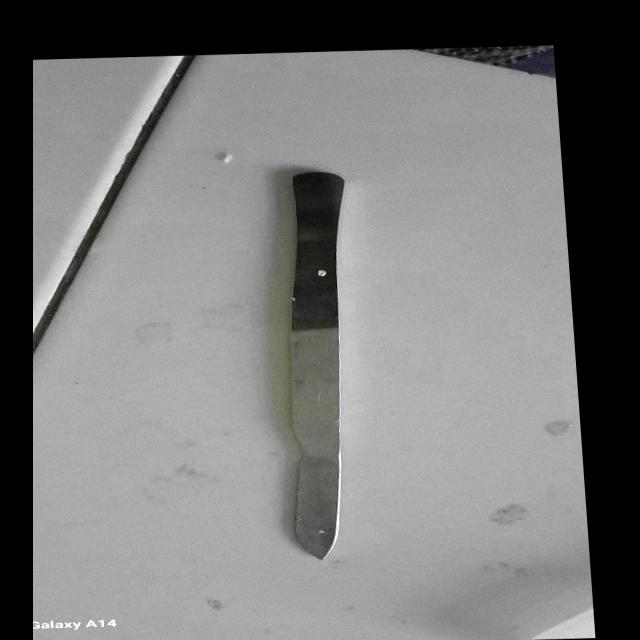Knife: (258, 164, 378, 562)
